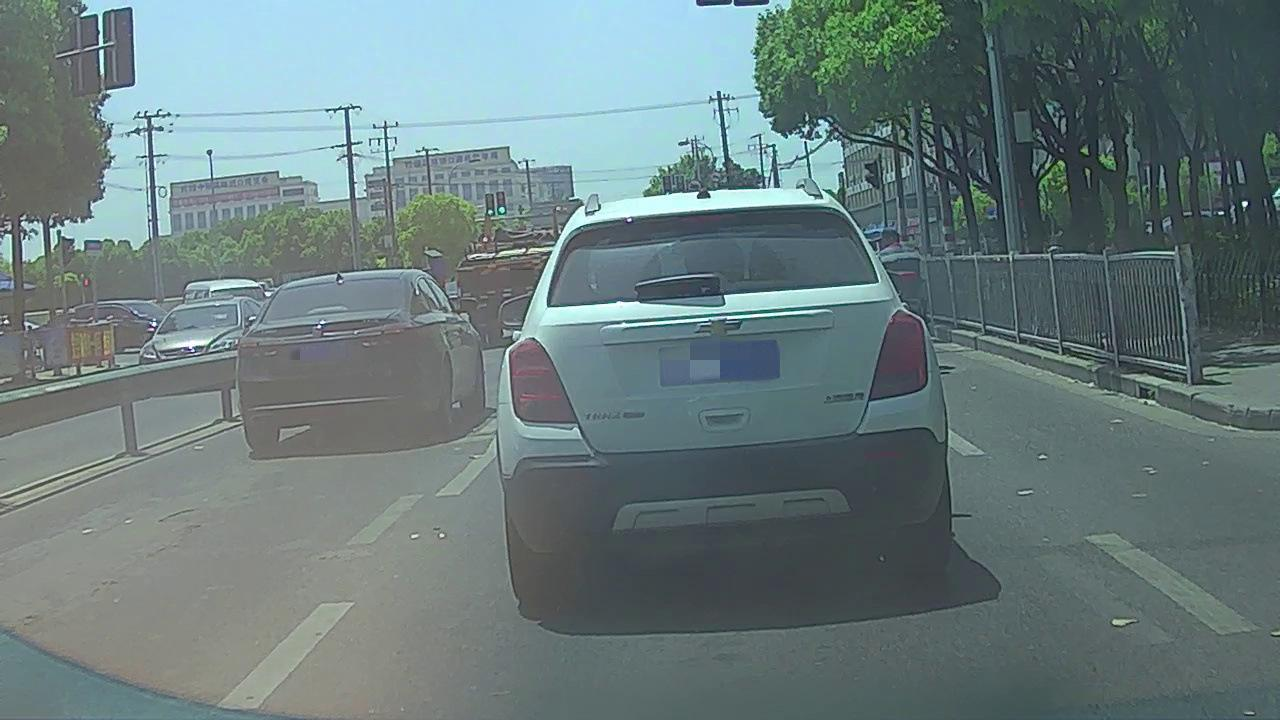traffic_light: (485, 194, 496, 217), (496, 192, 506, 215)
